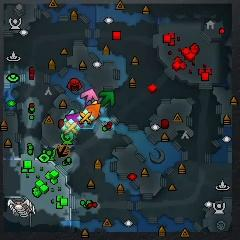Other: (62, 119, 80, 139), (77, 109, 94, 126)
p1: (86, 100, 92, 108)
p2: (65, 109, 77, 122)
p3: (65, 113, 83, 127)
p4: (92, 100, 97, 105)
p5: (85, 104, 100, 119)
x1: (81, 89, 98, 104)
x4: (100, 91, 115, 107)
x5Clone: (56, 146, 68, 159)
